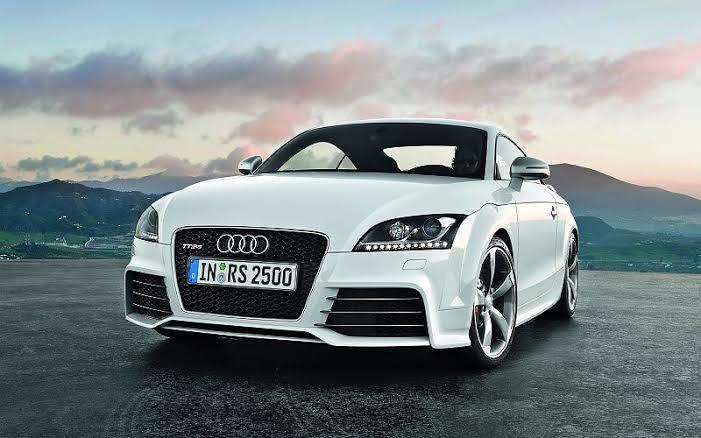audi: (115, 107, 585, 380)
